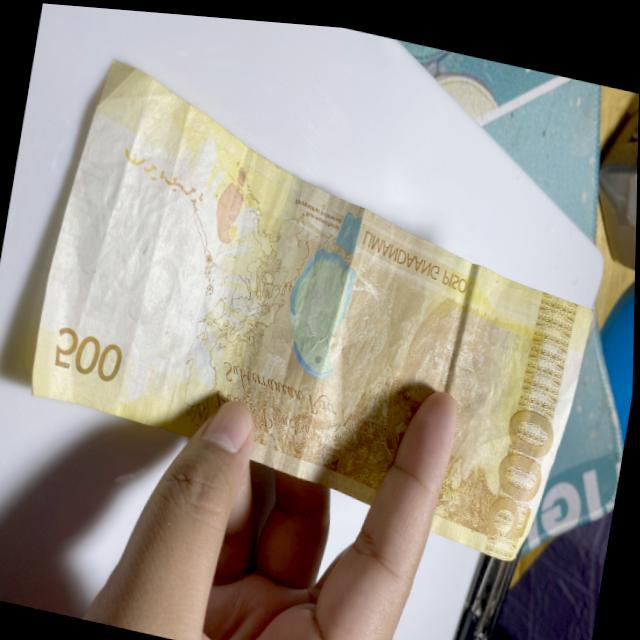500_big_parrot: (283, 190, 371, 377)
500_parrot_watermark: (209, 157, 252, 242)
value_watermark: (95, 186, 124, 250)
watermark: (78, 159, 206, 348)
